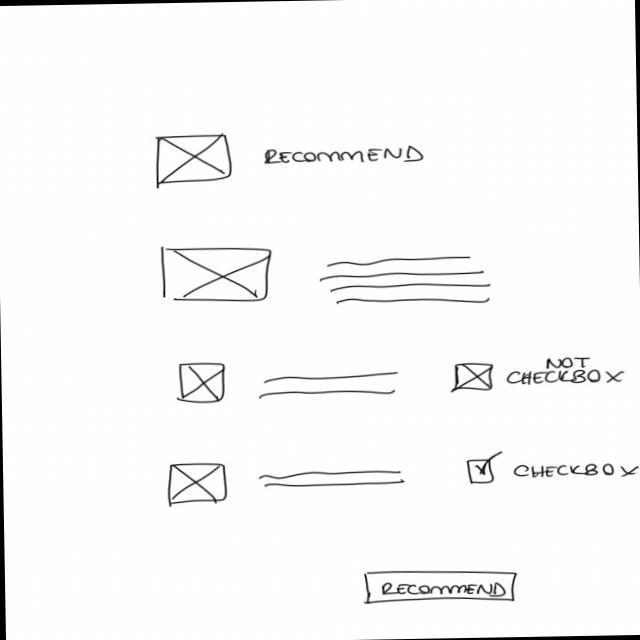button: (364, 568, 522, 606)
checkbox: (464, 448, 640, 486)
image: (158, 245, 273, 307), (154, 133, 234, 189), (167, 462, 230, 507), (177, 362, 230, 406), (454, 362, 497, 395)
label: (504, 355, 630, 388), (261, 144, 426, 168)
textbox: (318, 252, 493, 307), (256, 369, 402, 405), (257, 468, 407, 492)
